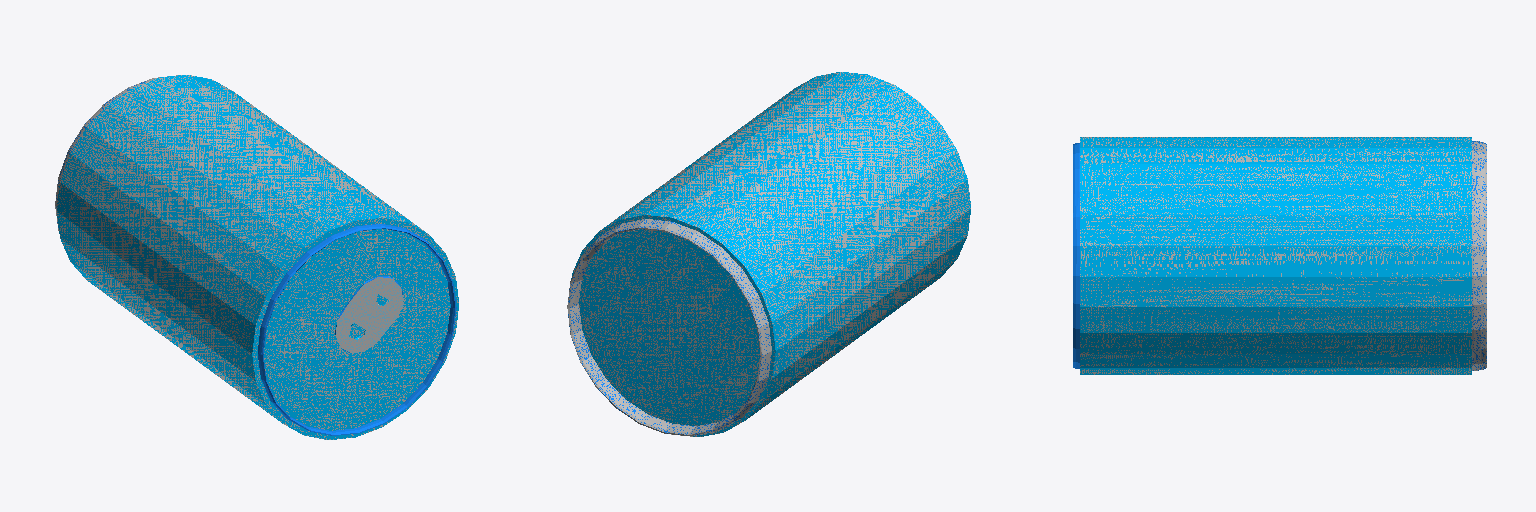
File: model_align.obj
The picture shows the model from 3 angles: view 1: azimuth 30°, elevation 25°; view 2: azimuth 150°, elevation 25°; view 3: azimuth 270°, elevation 25°; orthographic projection.
Bounding box in the file's own units: 0.0751 × 0.0751 × 0.1302.